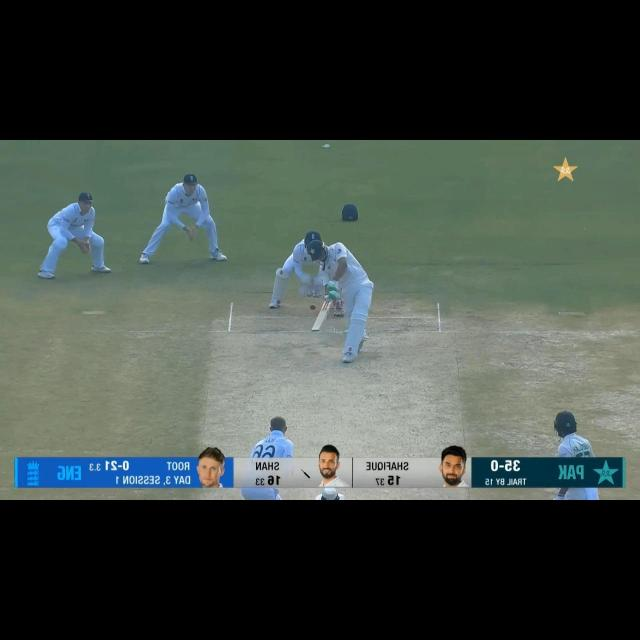bat: (312, 295, 332, 333)
toe: (310, 325, 321, 333)
